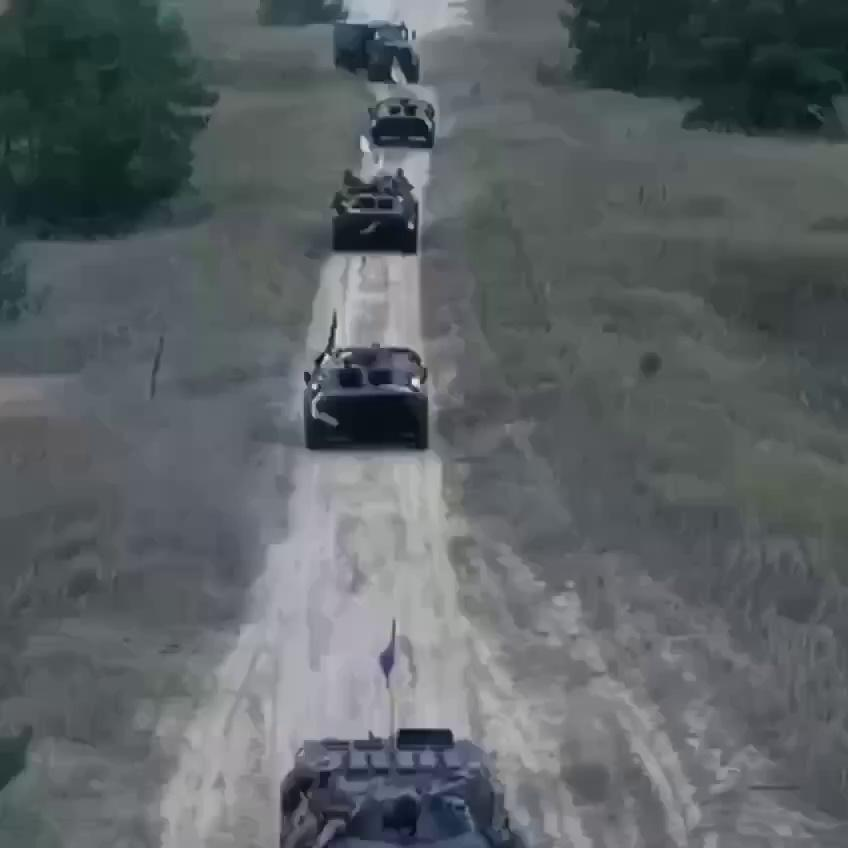tank: (274, 710, 526, 848), (303, 337, 434, 450), (332, 168, 420, 254), (368, 97, 435, 147)
truck: (331, 20, 420, 83)
